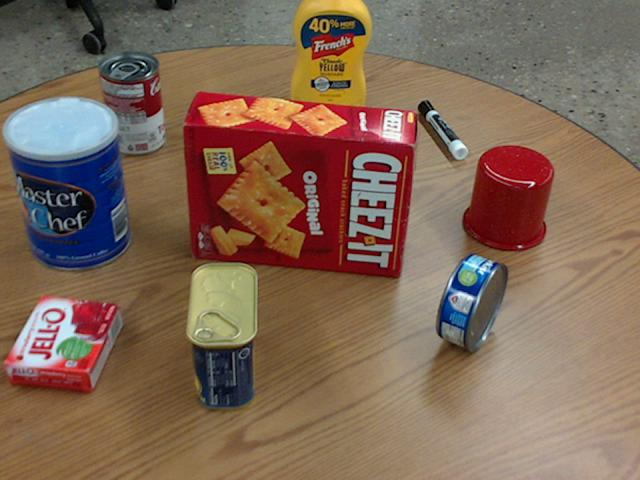cracker_box: (185, 92, 416, 277)
gelatin_box: (3, 295, 119, 389)
large_marker: (419, 100, 467, 158)
master_chef_can: (3, 97, 129, 271)
mug: (461, 144, 552, 249)
mustard_bottle: (291, 0, 371, 113)
potted_meat_can: (184, 261, 255, 408)
sugar_box: (213, 101, 374, 186)
tomato_soup_can: (98, 50, 164, 153)
tuna_fish_can: (437, 253, 506, 349)
